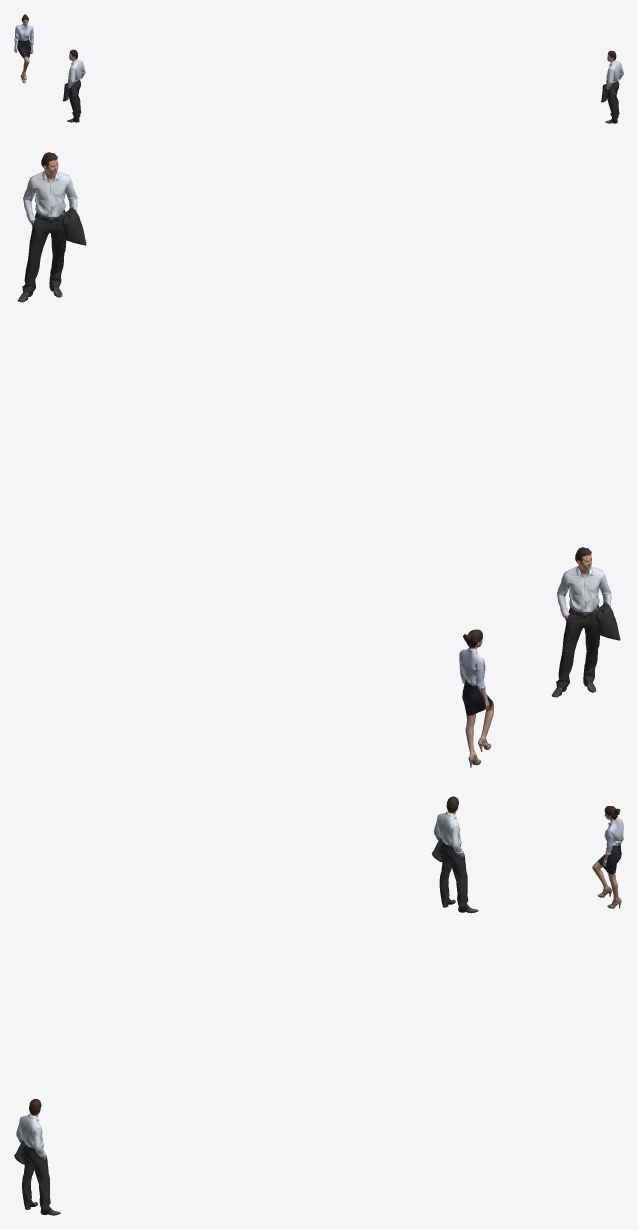
Rendered from ren11.gltf.
3 renders of one model, top to bottom at view 1: azimuth 30°, elevation 25°; view 2: azimuth 150°, elevation 25°; view 3: azimuth 270°, elevation 25°, orthographic. The views are drawn at different scales.
Parts seen in each view (by area): view 1: Obj3d66-515503-7-252, Obj3d66-515503-7-251, Obj3d66-515503-10-482; view 2: Obj3d66-515503-7-252, Obj3d66-515503-7-251, Obj3d66-515503-10-482; view 3: Obj3d66-515503-7-251, Obj3d66-515503-7-252, Obj3d66-515503-10-482.
Part boxes in pixels (x1=…): Obj3d66-515503-7-252: x1=601, y1=50, x2=623, y2=123; Obj3d66-515503-7-251: x1=62, y1=49, x2=85, y2=122; Obj3d66-515503-10-482: x1=14, y1=14, x2=33, y2=83; Obj3d66-515503-7-252: x1=18, y1=152, x2=86, y2=302; Obj3d66-515503-7-251: x1=551, y1=547, x2=620, y2=697; Obj3d66-515503-10-482: x1=459, y1=629, x2=493, y2=767; Obj3d66-515503-7-251: x1=431, y1=796, x2=478, y2=913; Obj3d66-515503-7-252: x1=14, y1=1098, x2=60, y2=1215; Obj3d66-515503-10-482: x1=592, y1=806, x2=623, y2=908.
Size of the model in its own units: 115 by 18.2 by 92.25.
3 materials, 3 textured.
